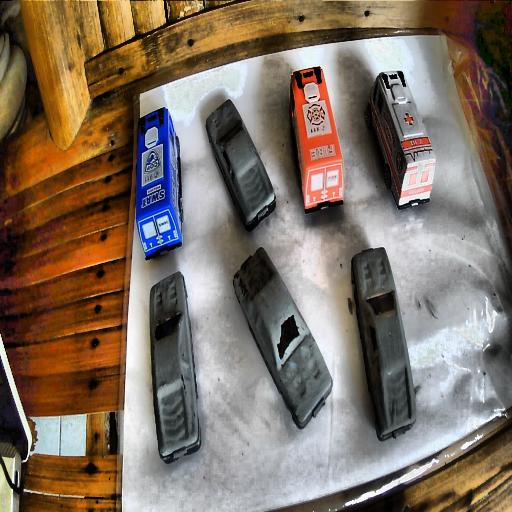ambulance: (366, 70, 436, 210)
fire_truck: (289, 66, 345, 212)
normal_car: (235, 248, 329, 430), (348, 247, 418, 440), (148, 270, 200, 464), (206, 99, 275, 233)
police car: (135, 108, 183, 260), (141, 126, 166, 191)
